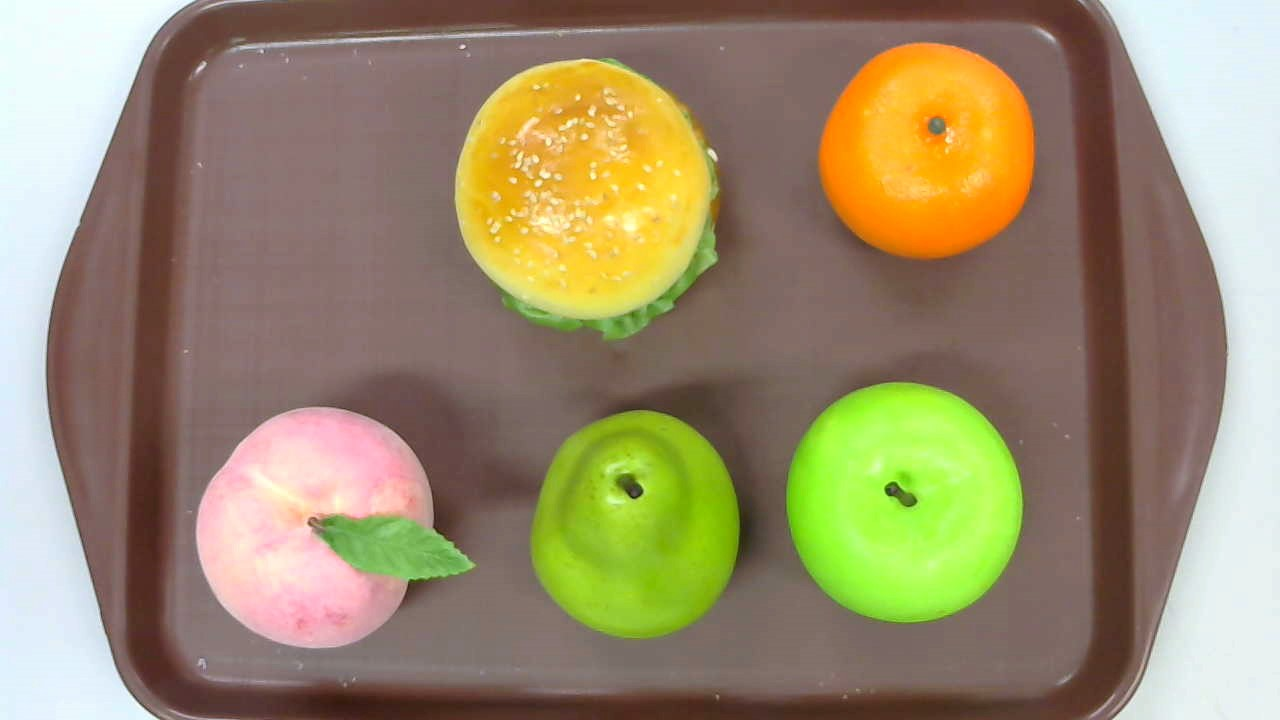green apple: (785, 380, 1023, 624)
green pear: (530, 410, 740, 639)
hamburger: (453, 57, 722, 340)
orange: (819, 42, 1035, 262)
peach: (195, 406, 477, 649)
